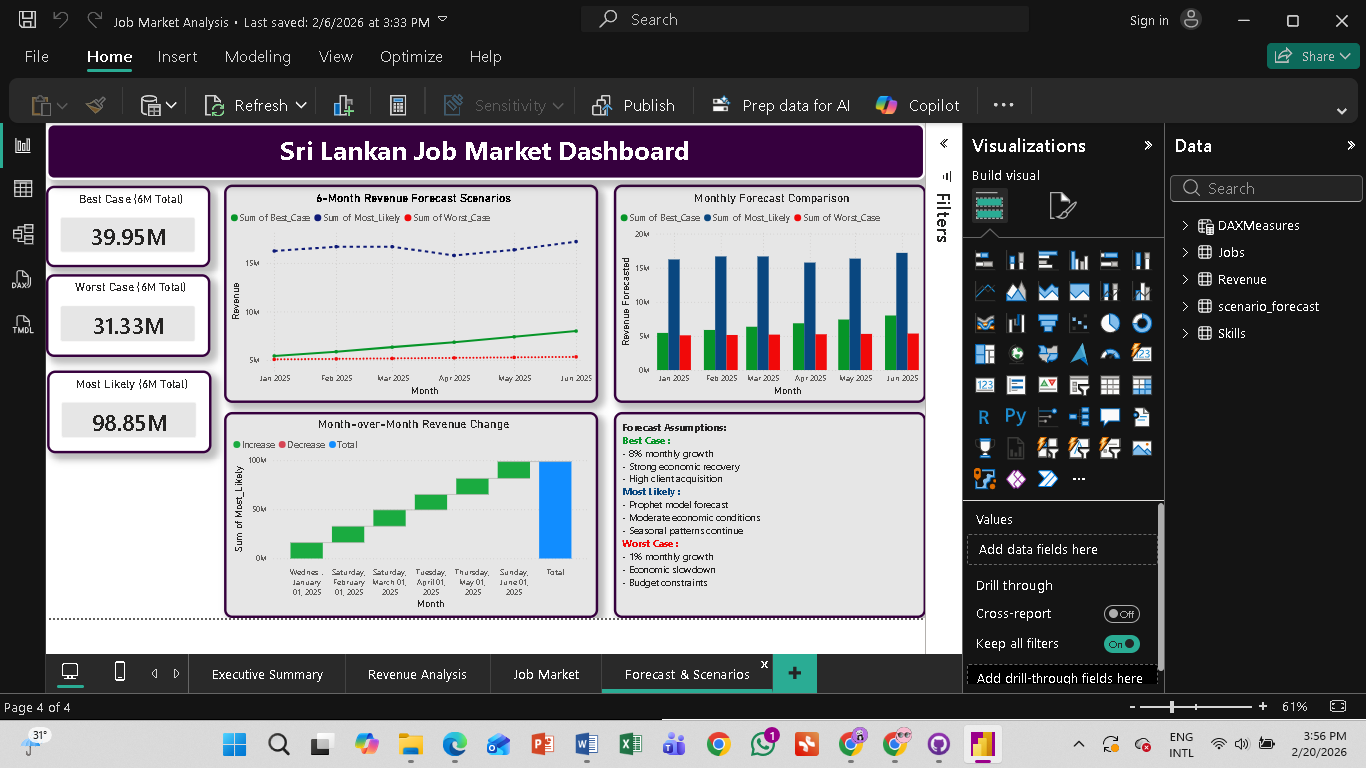

The dashboard page shown, as its layout file describes it:
{"tool":"powerbi","page":{"name":"Forecast & Scenarios","canvas":[1280,720],"ordinal":3},"visuals":[{"type":"lineChart","title":"6-Month Revenue Forecast Scenarios","fields":{"Category":["scenario_forecast.Month.Variation.Date Hierarchy.Month"],"Y":["Sum(scenario_forecast.Best_Case)","Sum(scenario_forecast.Most_Likely)","Sum(scenario_forecast.Worst_Case)"]},"box":[259,90.5,544.6,317.5],"z":0},{"type":"cardVisual","title":"Best Case (6M Total)","fields":{"Data":["Sum(scenario_forecast.Best_Case)"]},"box":[0,91.3,239.7,119],"z":1000},{"type":"cardVisual","title":"Most Likely (6M Total)","fields":{"Data":["Sum(scenario_forecast.Most_Likely)"]},"box":[1.8,360.1,239.5,120.6],"z":2000},{"type":"cardVisual","title":"Worst Case (6M Total)","fields":{"Data":["Sum(scenario_forecast.Worst_Case)"]},"box":[0,220,239.5,120.6],"z":3000},{"type":"clusteredColumnChart","title":"Monthly Forecast Comparison","fields":{"Category":["scenario_forecast.Month.Variation.Date Hierarchy.Month"],"Y":["Sum(scenario_forecast.Best_Case)","Sum(scenario_forecast.Most_Likely)","Sum(scenario_forecast.Worst_Case)"]},"box":[826.6,90.5,454.1,317.5],"z":4000},{"type":"textbox","box":[826.6,420.4,454.1,299.8],"z":5000},{"type":"waterfallChart","title":"Month-over-Month Revenue Change","fields":{"Category":["scenario_forecast.Month.Variation.Date Hierarchy.Month"],"Y":["Sum(scenario_forecast.Most_Likely)"]},"box":[259,420.4,544.6,299.8],"z":6000},{"type":"textbox","box":[0,0,1280,83.2],"z":7000}]}

Visuals, with their boxes on the page's 1280x720 design canvas (x1, y1, x2, y2). These are canvas units, not pixel positions in the 1366x768 screenshot, which may show the page scaled, cropped or inside an application window:
"6-Month Revenue Forecast Scenarios" lineChart: 259/90/804/408
"Best Case (6M Total)" cardVisual: 0/91/240/210
"Most Likely (6M Total)" cardVisual: 2/360/241/481
"Worst Case (6M Total)" cardVisual: 0/220/240/341
"Monthly Forecast Comparison" clusteredColumnChart: 827/90/1281/408
textbox: 827/420/1281/720
"Month-over-Month Revenue Change" waterfallChart: 259/420/804/720
textbox: 0/0/1280/83
